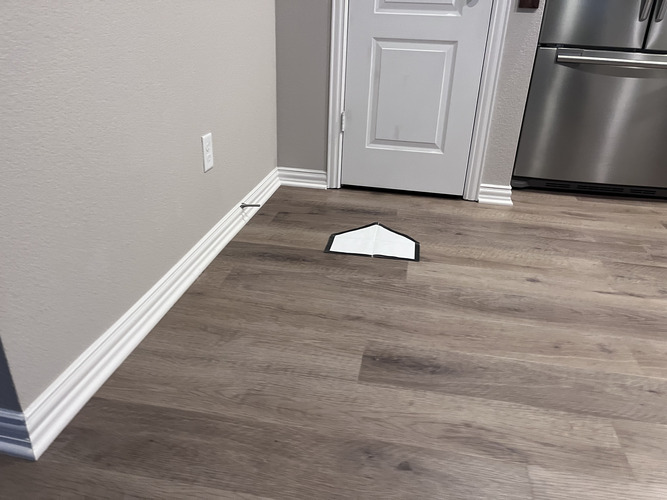homeplate: (323, 222, 419, 260)
